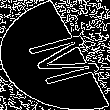M_E: (10, 24, 100, 86)
